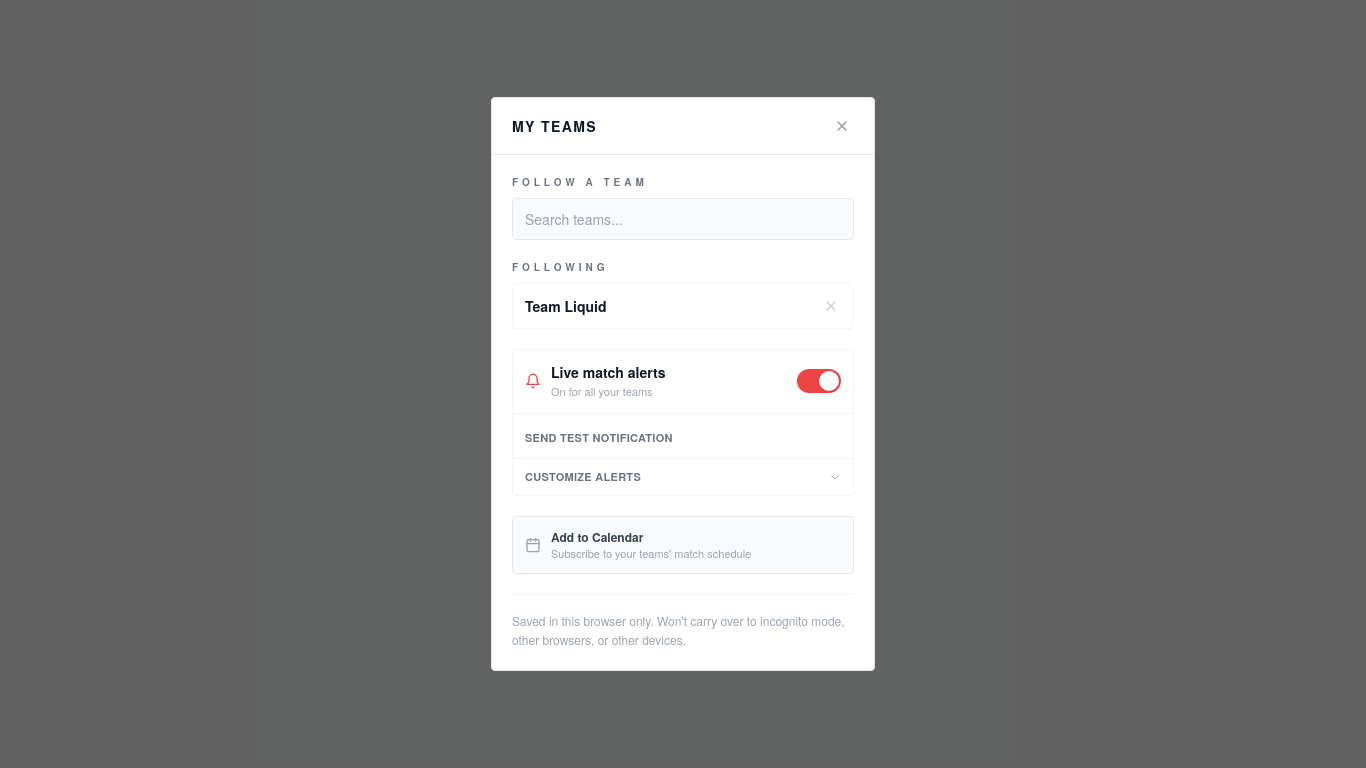
ManageTeamsModal - customize alerts › expanding reveals the 3 type toggles (all on by default) and Quiet hours (off by default)
Click the button "Customize alerts" at [583, 476], box [513,459,853,495]
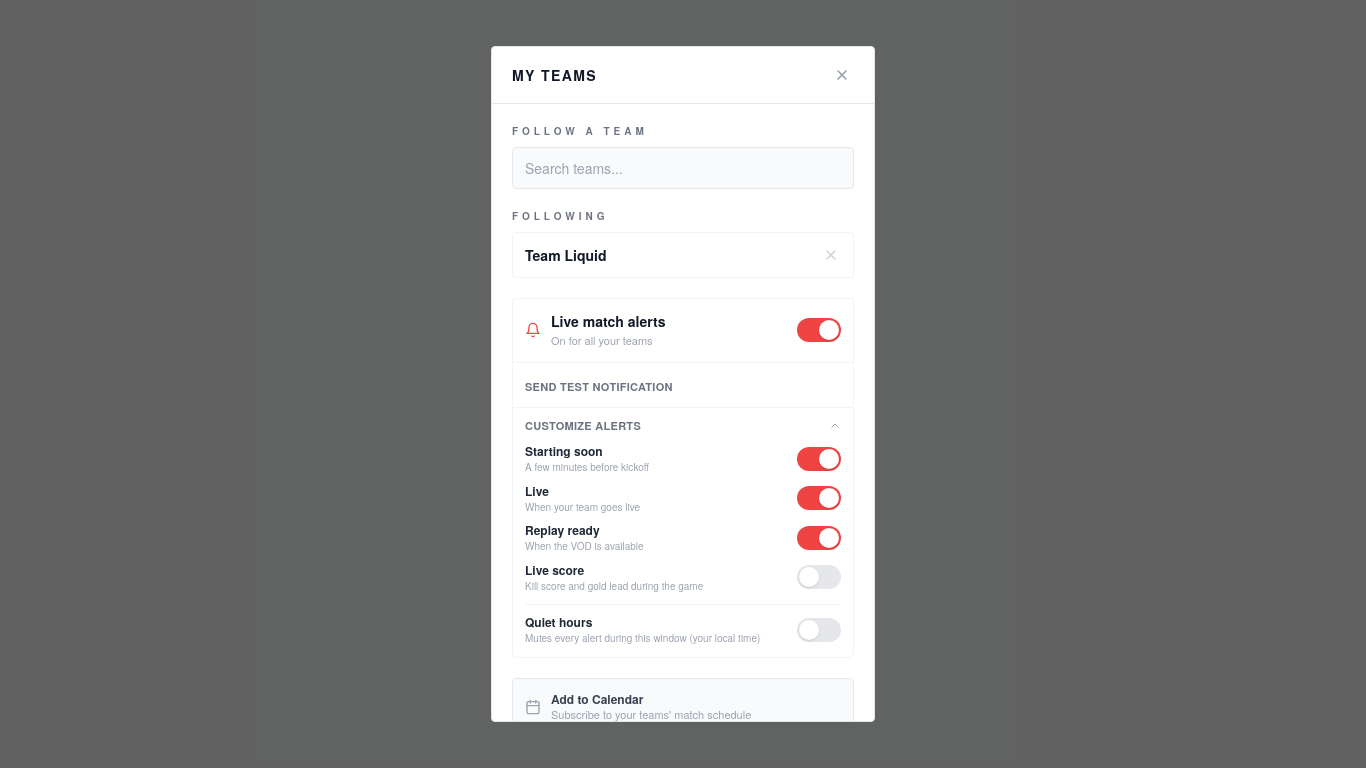
Expected: the text "Starting soon" is shown, [525,442,603,460]
Expected: the text "Live" is shown, [525,482,549,500]
Expected: the text "Replay ready" is shown, [525,521,600,539]
